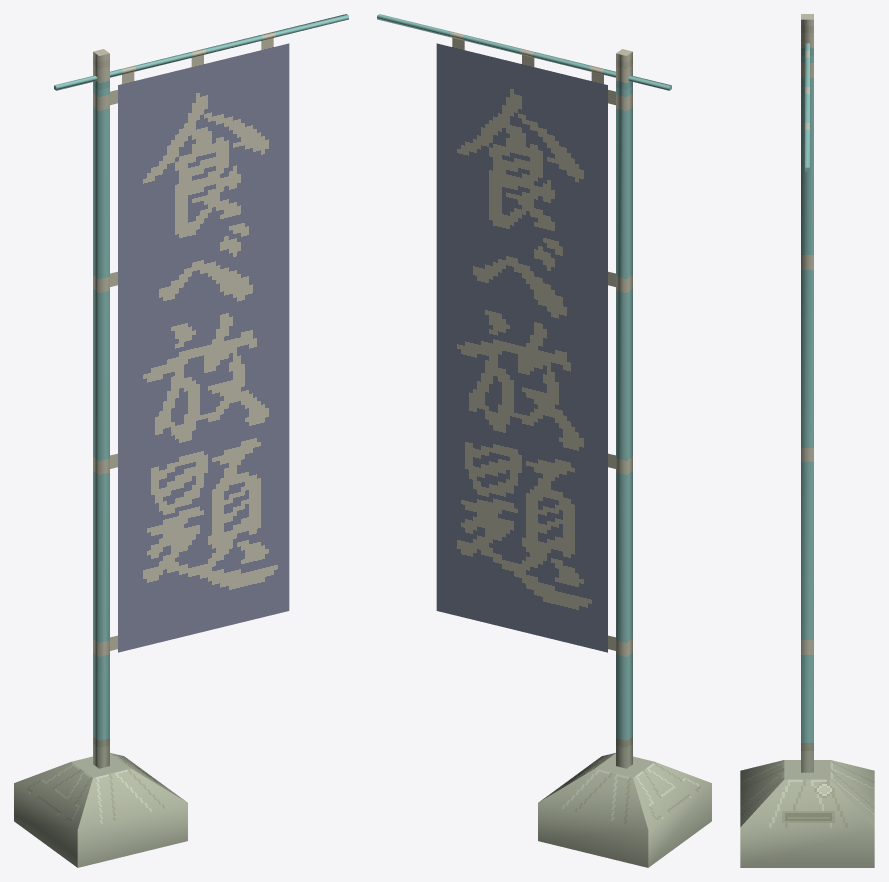
Rendered from 018a_All_You_Can_Eat.glb.
3 views of the same model, side by side, from view 1: azimuth 30°, elevation 25°; view 2: azimuth 150°, elevation 25°; view 3: azimuth 270°, elevation 25° (orthographic). The views are drawn at different scales.
Parts seen in each view (by area): view 1: part_0; view 2: part_0; view 3: part_0.
Boxes of the visible parts, box(x1,y1,x2,y2) form: part_0: box(14, 14, 348, 867); part_0: box(377, 14, 711, 867); part_0: box(740, 14, 874, 867).
Size of the model in its own units: 0.9577 by 2.36 by 0.35.
1 material, 1 textured.
